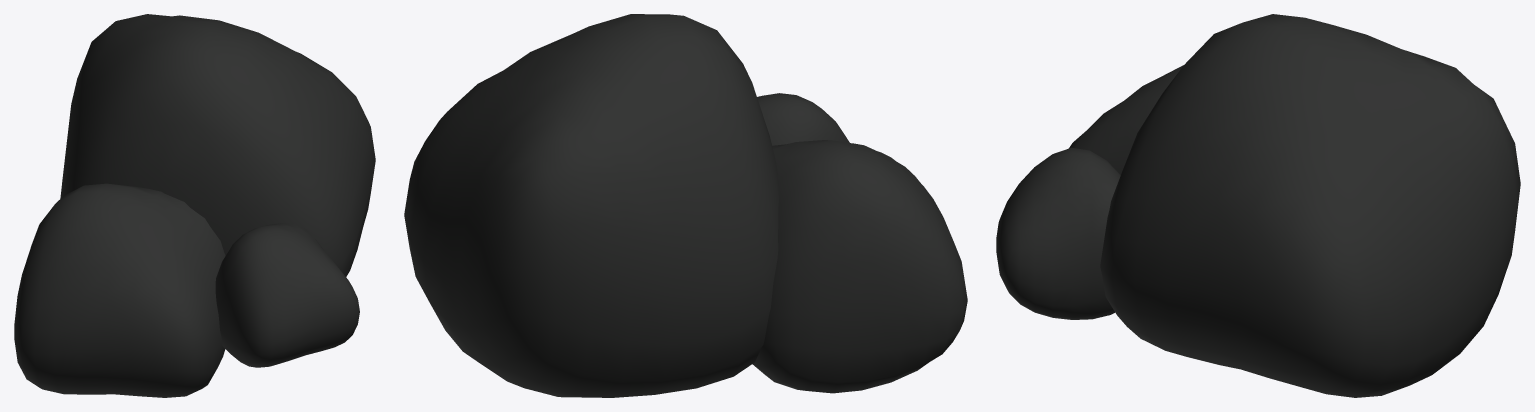
Rendered from stone.glb.
The picture shows the model from 3 angles, left to right: view 1: azimuth 30°, elevation 25°; view 2: azimuth 150°, elevation 25°; view 3: azimuth 270°, elevation 25°; orthographic projection. The views are drawn at different scales.
Visible parts, largest first — view 1: pCube9, pCube11, pCube10; view 2: pCube9, pCube11, pCube10; view 3: pCube9, pCube10, pCube11.
Part boxes in pixels (left/top/right/bottom): pCube9: left=60, top=14, right=375, bottom=276; pCube11: left=14, top=183, right=225, bottom=397; pCube10: left=215, top=223, right=359, bottom=367; pCube9: left=404, top=14, right=778, bottom=397; pCube11: left=752, top=140, right=967, bottom=393; pCube10: left=757, top=93, right=849, bottom=145; pCube9: left=1100, top=14, right=1520, bottom=397; pCube10: left=996, top=147, right=1120, bottom=319; pCube11: left=1069, top=65, right=1183, bottom=174.
Size of the model in its own units: 0.7393 by 0.512 by 0.7186.
Materials: 1 (1 with a texture image).
